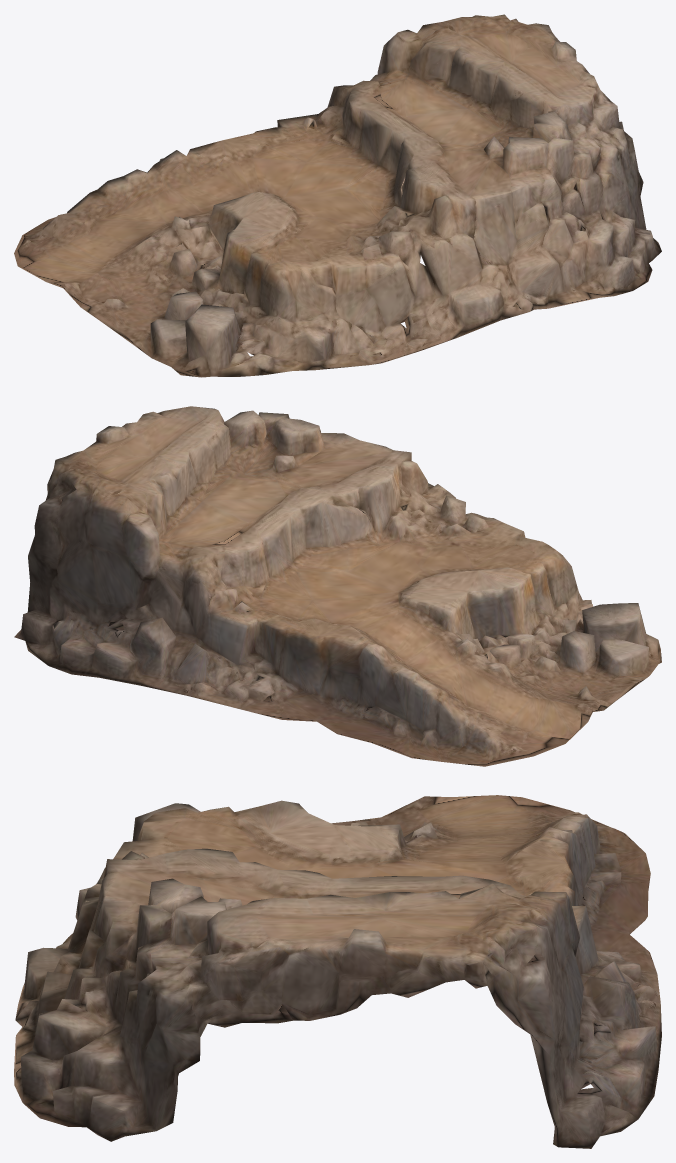
Rendered from kiviraidur.glb.
3 views of the same model, one above another, from view 1: azimuth 30°, elevation 25°; view 2: azimuth 150°, elevation 25°; view 3: azimuth 270°, elevation 25° (orthographic). The views are drawn at different scales.
Visible parts, largest first — view 1: model; view 2: model; view 3: model.
Part boxes in pixels (<box>): model: <box>14,14,661,377</box>; model: <box>14,406,661,766</box>; model: <box>14,795,661,1148</box>.
Size of the model in its own units: 1 by 0.3129 by 0.7797.
Materials: 1 (1 with a texture image).
